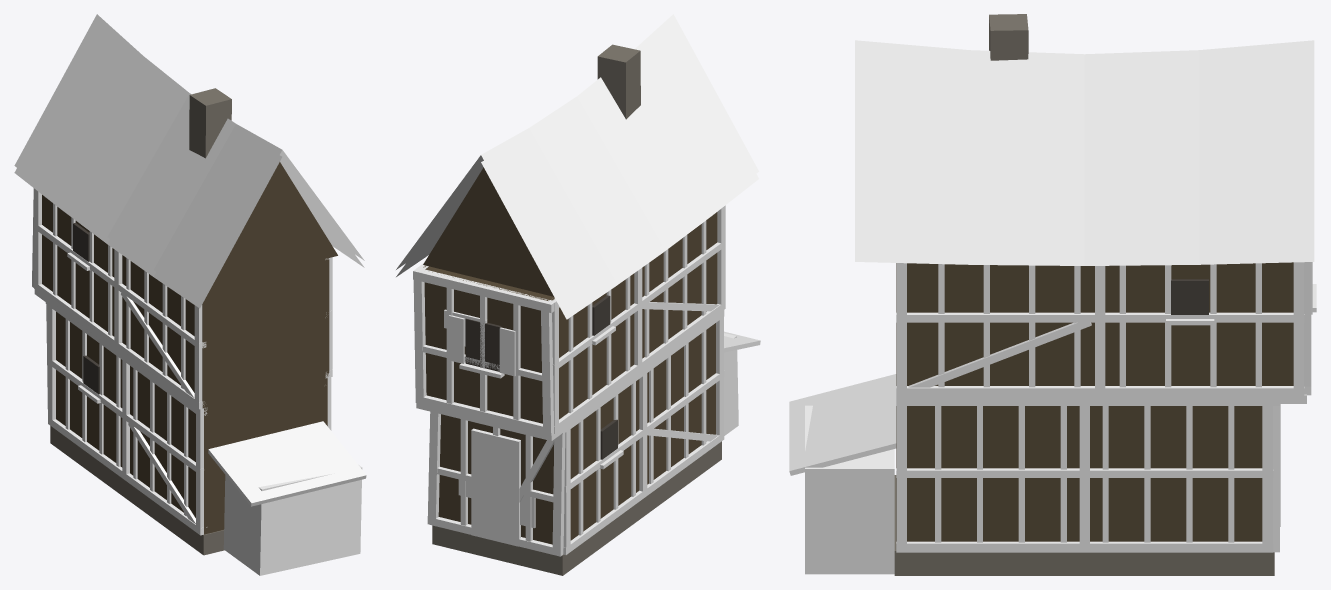
Rendered from house_narrow_poor_a.glb.
3 renders of one model, left to right at view 1: azimuth 30°, elevation 25°; view 2: azimuth 150°, elevation 25°; view 3: azimuth 270°, elevation 25°, orthographic. The views are drawn at different scales.
Parts seen in each view (by area): view 1: house_narrow_poor_a; view 2: house_narrow_poor_a; view 3: house_narrow_poor_a.
Part boxes in pixels (bbox=[...]): house_narrow_poor_a: bbox=[14, 14, 366, 575]; house_narrow_poor_a: bbox=[396, 14, 760, 575]; house_narrow_poor_a: bbox=[789, 14, 1316, 575].
Size of the model in its own units: 3.42 by 8.17 by 7.64.
